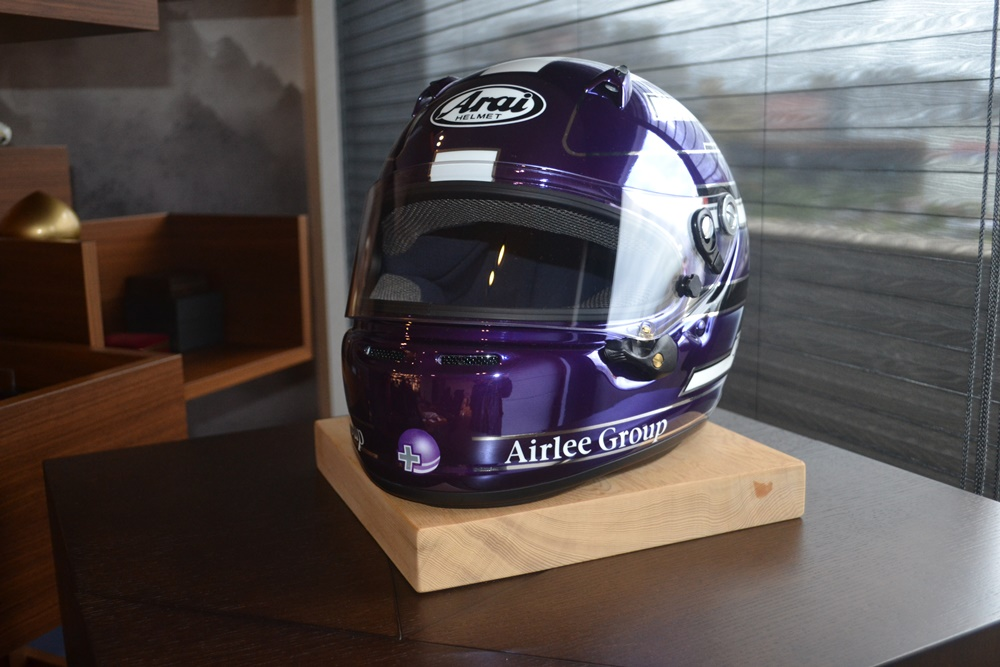helmet: (370, 45, 764, 447)
